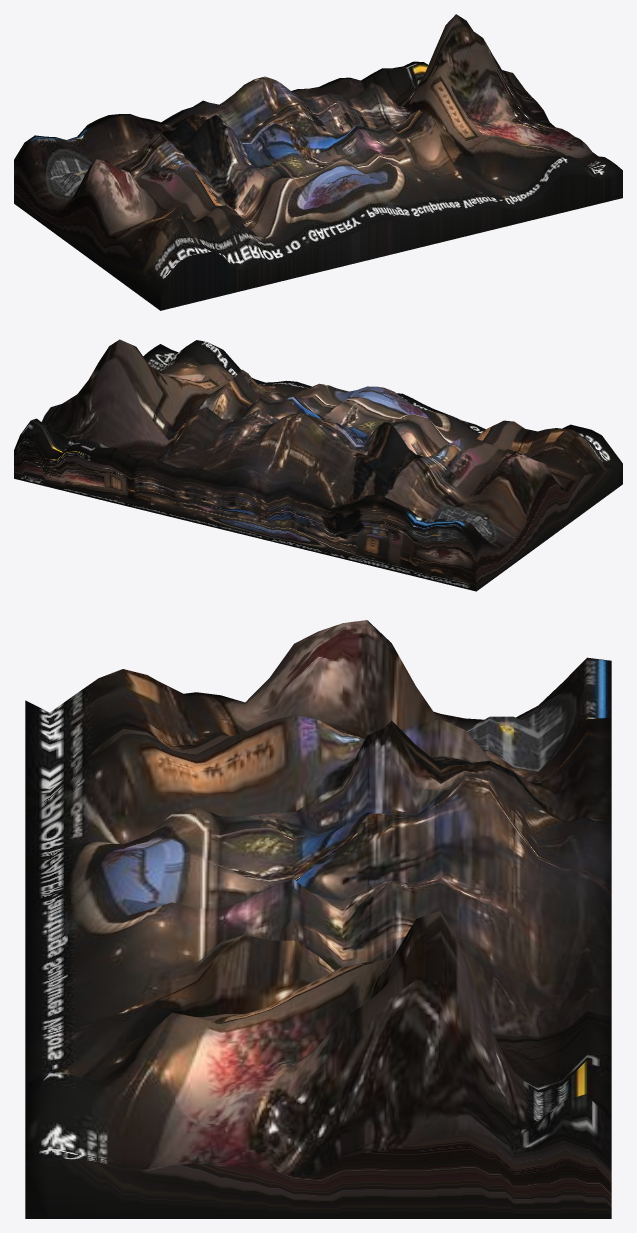
Rendered from SPECIAL_INT_10_Gallery.glb.
3 views of the same model, one above another, from view 1: azimuth 30°, elevation 25°; view 2: azimuth 150°, elevation 25°; view 3: azimuth 270°, elevation 25° (orthographic). The views are drawn at different scales.
Visible parts, largest first — view 1: SPECIAL_INT_10_Gallery; view 2: SPECIAL_INT_10_Gallery; view 3: SPECIAL_INT_10_Gallery.
Part boxes in pixels (x1,y1,x2,y2): SPECIAL_INT_10_Gallery: (14,14,622,310); SPECIAL_INT_10_Gallery: (14,339,622,591); SPECIAL_INT_10_Gallery: (25,620,611,1218).
Bounding box in the file's own units: 2 × 0.51 × 1.1.
Materials: 1 (1 with a texture image).
